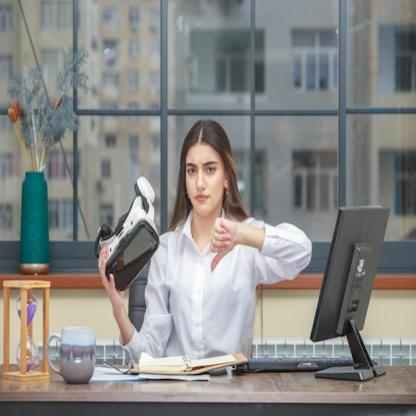thumb_down: (206, 217, 237, 272)
